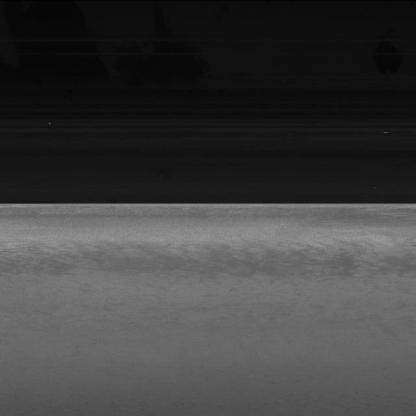silk_spot: (129, 229, 257, 276)
